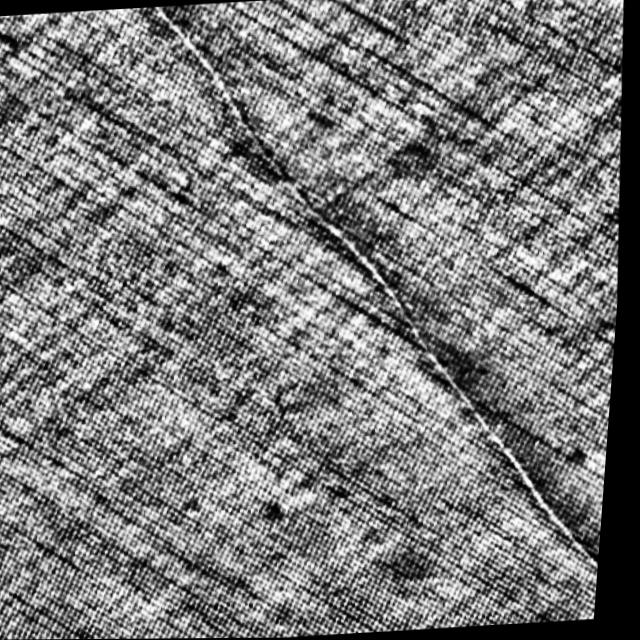Stitch: (253, 139, 483, 387), (49, 0, 277, 153), (451, 407, 609, 573)
